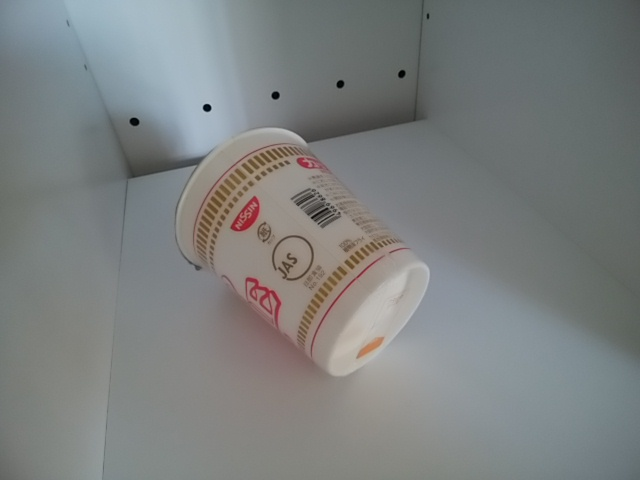cup-ramen: (171, 120, 433, 383)
